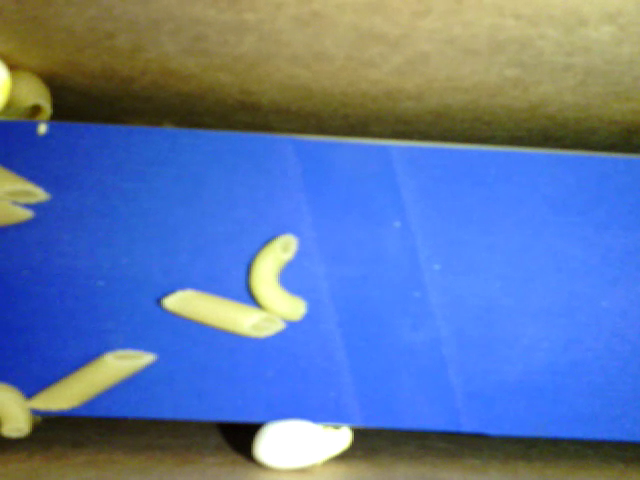elbow: (249, 232, 310, 324), (1, 386, 36, 443)
penne: (25, 349, 157, 412), (156, 287, 290, 341), (1, 170, 54, 206)
shell: (1, 69, 55, 127)
